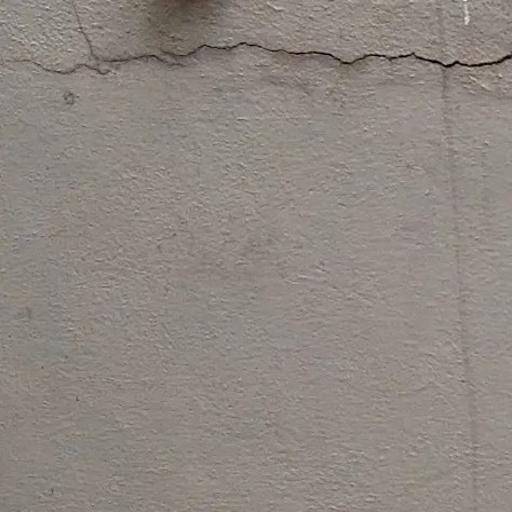major_crack: (3, 5, 512, 93)
